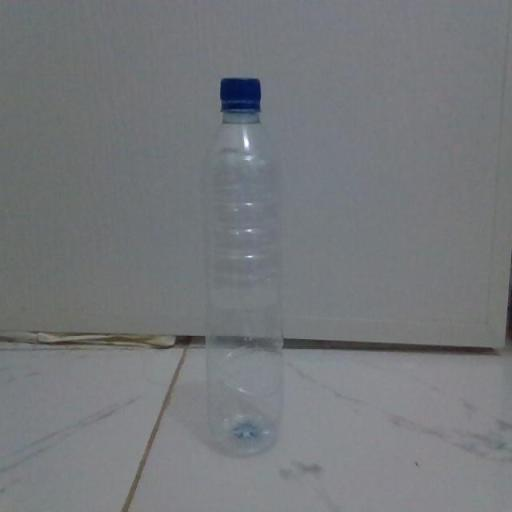plastic: (198, 77, 284, 459)
